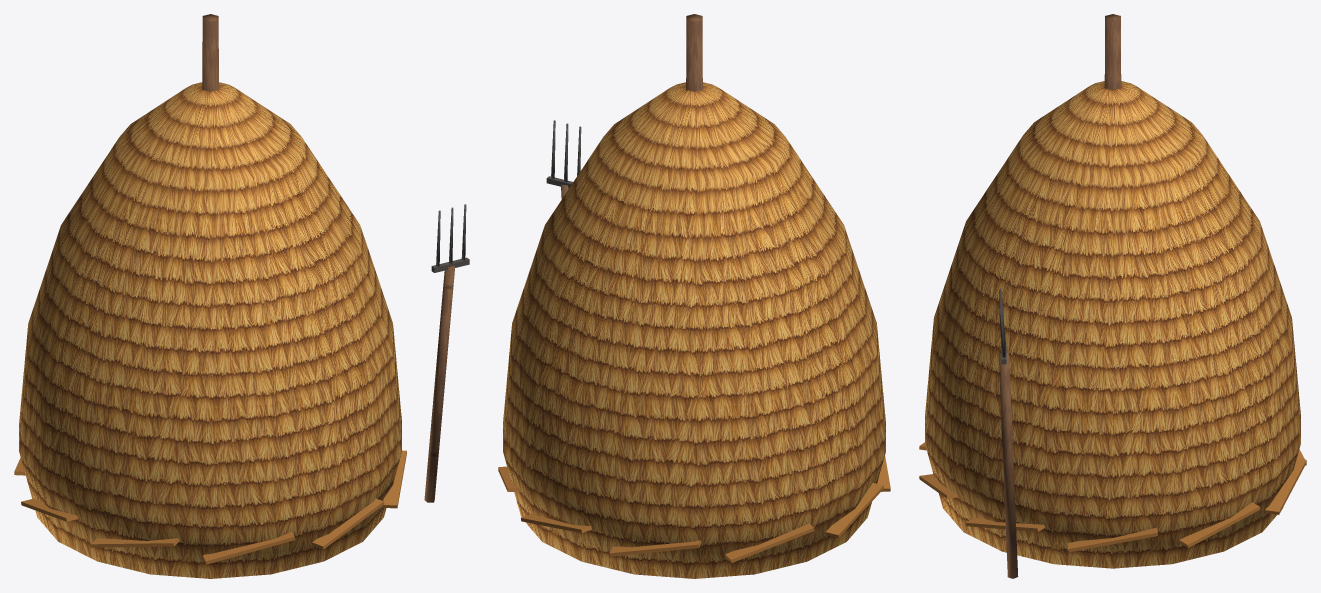
Rendered from haystack.glb.
3 renders of one model, left to right at view 1: azimuth 30°, elevation 25°; view 2: azimuth 150°, elevation 25°; view 3: azimuth 270°, elevation 25°, orthographic.
Visible parts, largest first — view 1: haystack_hay, haystack_pole_fork; view 2: haystack_hay, haystack_pole_fork; view 3: haystack_hay, haystack_pole_fork.
Boxes of the visible parts, x1,y1,x2,y2 form: haystack_hay: (14,82,406,578); haystack_pole_fork: (202,14,469,502); haystack_hay: (498,82,890,578); haystack_pole_fork: (546,14,702,199); haystack_hay: (919,81,1306,568); haystack_pole_fork: (998,14,1121,578).
Size of what is drawn, in the model's own units: 2.31 by 2.9 by 2.13.
3 materials, 3 textured.
